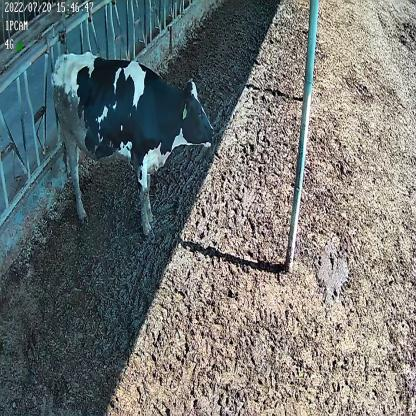cow: (50, 48, 217, 240)
